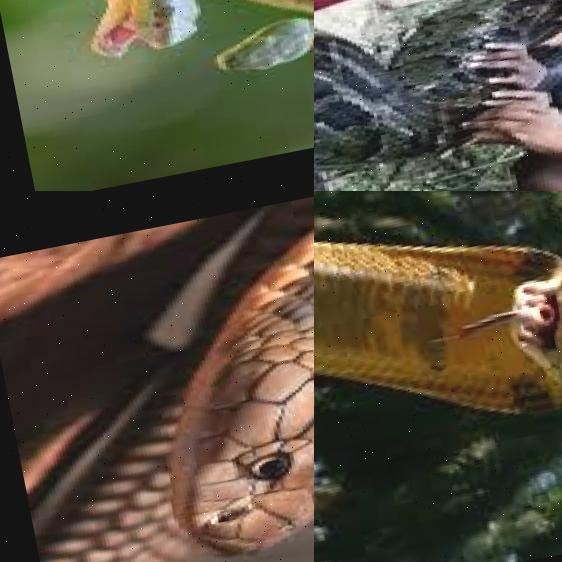snake: (0, 191, 314, 562), (314, 191, 562, 478), (0, 0, 314, 191), (314, 0, 562, 191)
